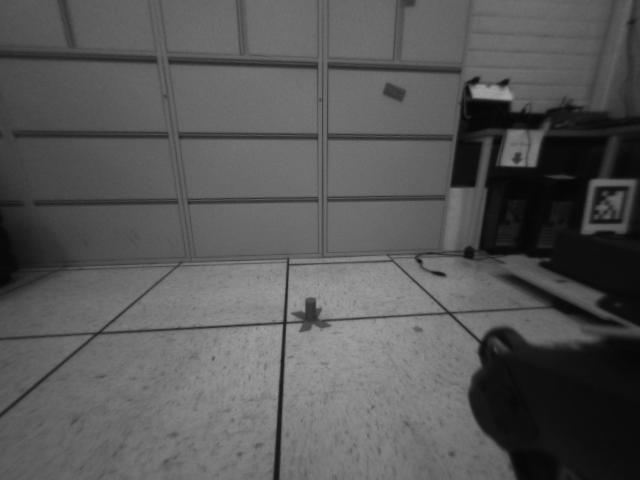X: (291, 296, 332, 333)
